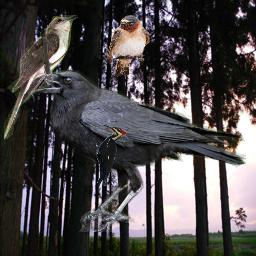Crow: (28, 70, 246, 232)
Cuckoo: (4, 15, 78, 140)
Swallow: (107, 15, 150, 76)
Woodpecker: (96, 124, 128, 186)
